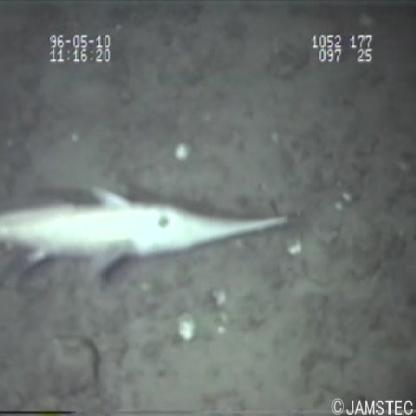Bio: (1, 178, 295, 292)
